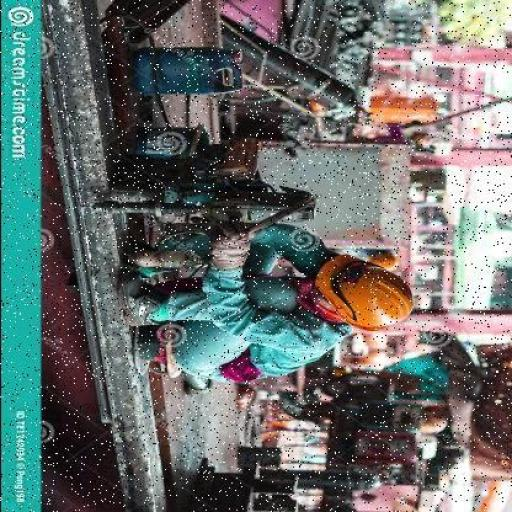person: (100, 190, 420, 402)
safety_shoe: (110, 275, 168, 332)
